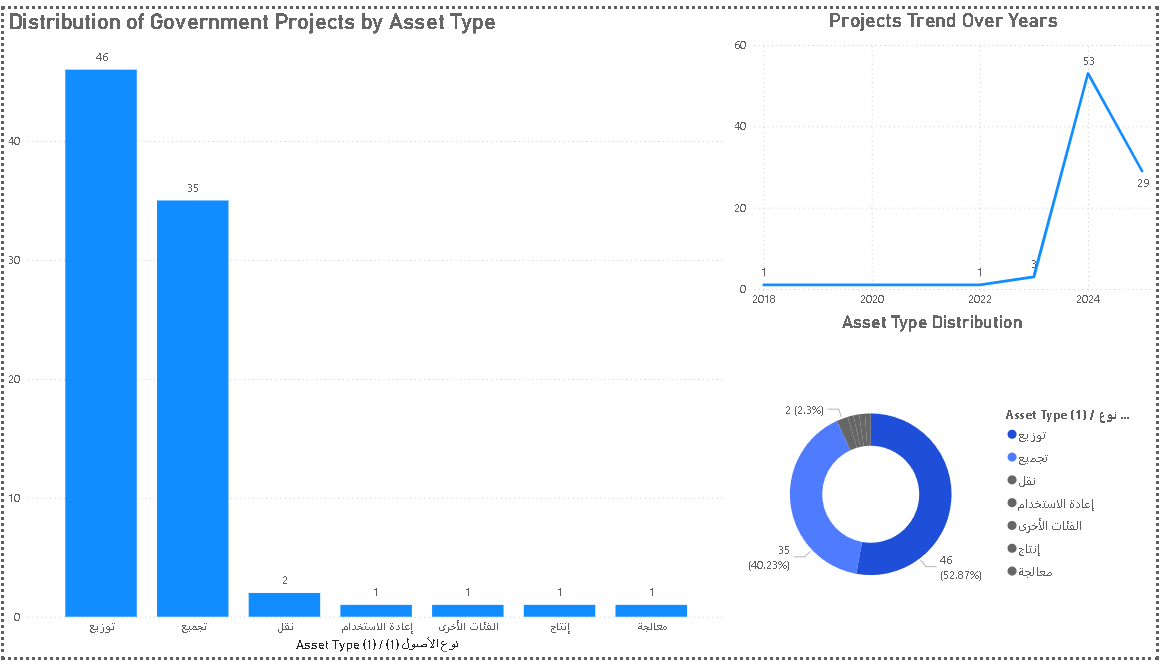

This screenshot's page, from the dashboard's own definition file:
{"tool":"powerbi","page":{"name":"Page ١","canvas":[1280,720],"ordinal":0},"visuals":[{"type":"clusteredColumnChart","title":"Distribution of Government Projects by Asset Type","fields":{"Category":["processed_projects.Asset Type (1) / نوع الأصول (1)"],"Y":["CountNonNull(processed_projects.اسم المشروع)"]},"box":[0,0,792.2,719.6],"z":0},{"type":"lineChart","title":"Projects Trend Over Years","fields":{"Category":["processed_projects.سنة البدء"],"Y":["CountNonNull(processed_projects.اسم المشروع)"]},"box":[805.9,0,474.5,360.8],"z":1000},{"type":"donutChart","title":"Asset Type Distribution","fields":{"Category":["processed_projects.Asset Type (1) / نوع الأصول (1)"],"Y":["CountNonNull(processed_projects.اسم المشروع)"]},"box":[805.9,337.3,449,382.4],"z":2000}]}

Visuals, with their boxes in screenshot pixels (x1, y1, x2, y2), scaled from the page's 1280x720 canvas onto the 1162x664 screenshot:
"Distribution of Government Projects by Asset Type" clusteredColumnChart: 0, 0, 719, 663
"Projects Trend Over Years" lineChart: 732, 0, 1161, 333
"Asset Type Distribution" donutChart: 732, 311, 1139, 663
